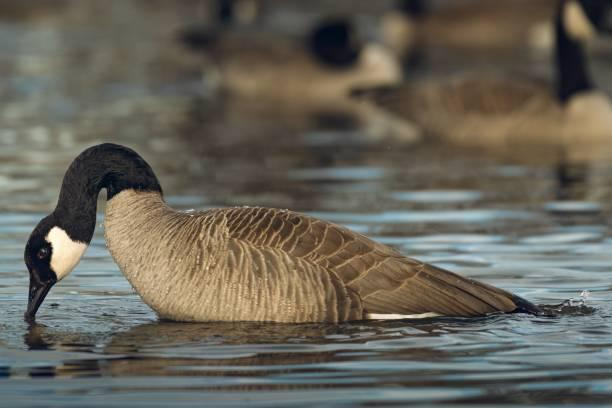Canadian-Goose: (19, 143, 542, 336)
